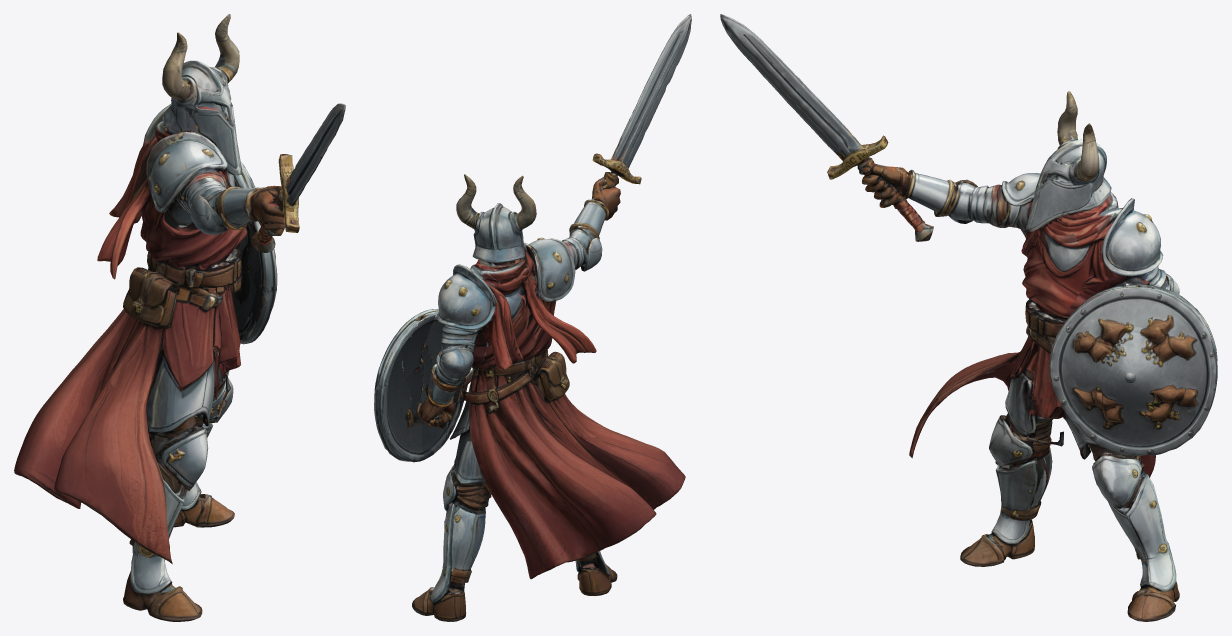
The model's file is Knight_BackView_SwordRaised.glb.
The picture shows the model from 3 angles, left to right: view 1: azimuth 30°, elevation 25°; view 2: azimuth 150°, elevation 25°; view 3: azimuth 270°, elevation 25°; orthographic projection. The views are drawn at different scales.
Parts seen in each view (by area): view 1: texture_mapping; view 2: texture_mapping; view 3: texture_mapping.
Part boxes in pixels (x1=…): texture_mapping: x1=14, y1=14, x2=345, y2=621; texture_mapping: x1=374, y1=14, x2=691, y2=621; texture_mapping: x1=720, y1=14, x2=1217, y2=621.
Bounding box in the file's own units: 0.4839 × 1 × 0.813.
Materials: 1 (1 with a texture image).
